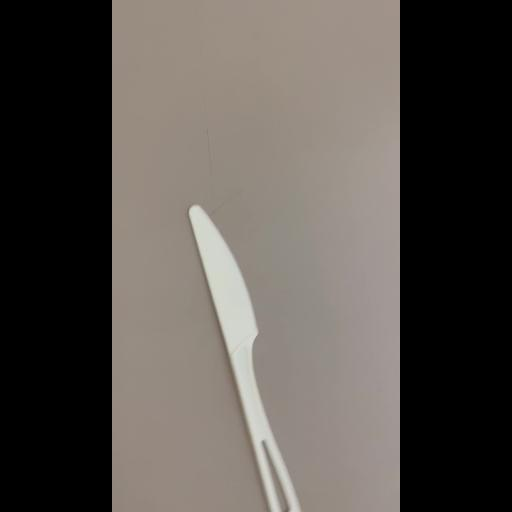utensil: (186, 200, 304, 512)
